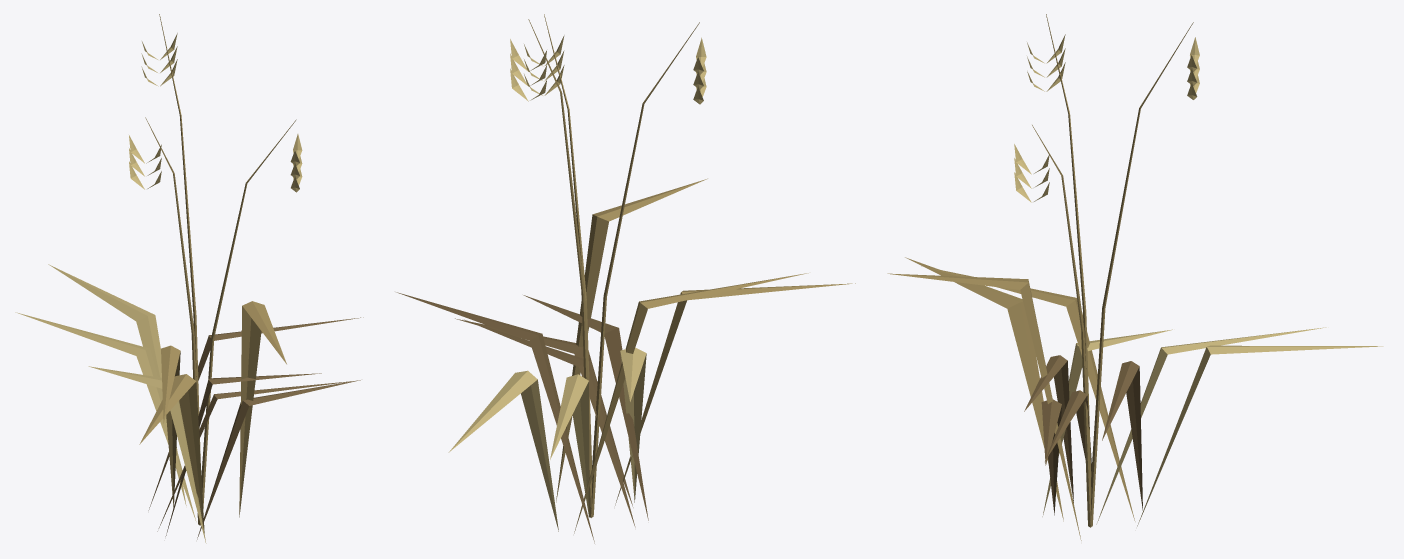
The model's file is SAND_GRASS_CLUMP.shadow.glb.
3 renders of one model, left to right at view 1: azimuth 30°, elevation 25°; view 2: azimuth 150°, elevation 25°; view 3: azimuth 270°, elevation 25°, orthographic. The views are drawn at different scales.
Visible parts, largest first — view 1: SAND_GRASS_CLUMP; view 2: SAND_GRASS_CLUMP; view 3: SAND_GRASS_CLUMP.
Part boxes in pixels (x1,y1,x2,y2): SAND_GRASS_CLUMP: (15, 14, 363, 543); SAND_GRASS_CLUMP: (396, 14, 855, 543); SAND_GRASS_CLUMP: (887, 14, 1383, 540).
Size of the model in its own units: 0.4559 by 0.6503 by 0.5846.
1 material, 1 textured.
